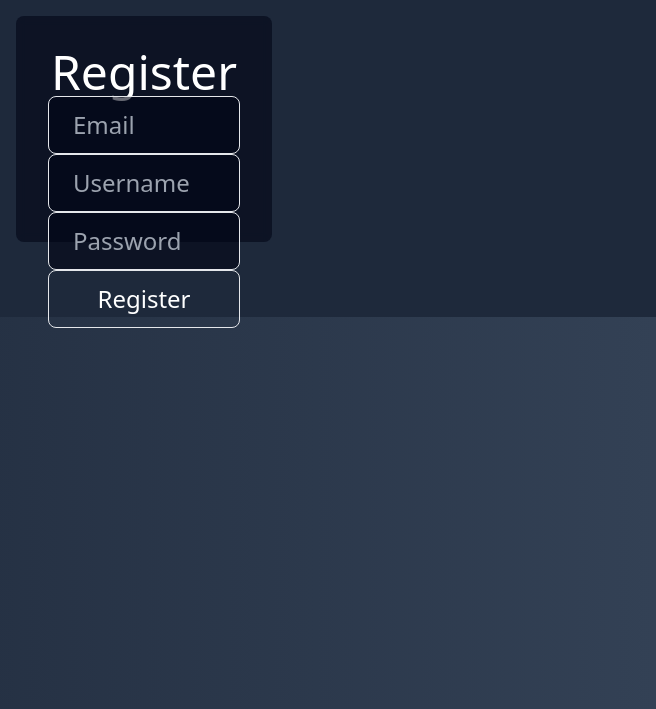
Scenario: Login › should render error message when received
Step 1. Type "robb@stark.winterfell" into the field with placeholder "Email" → point(144, 125), box [48,96,240,154]
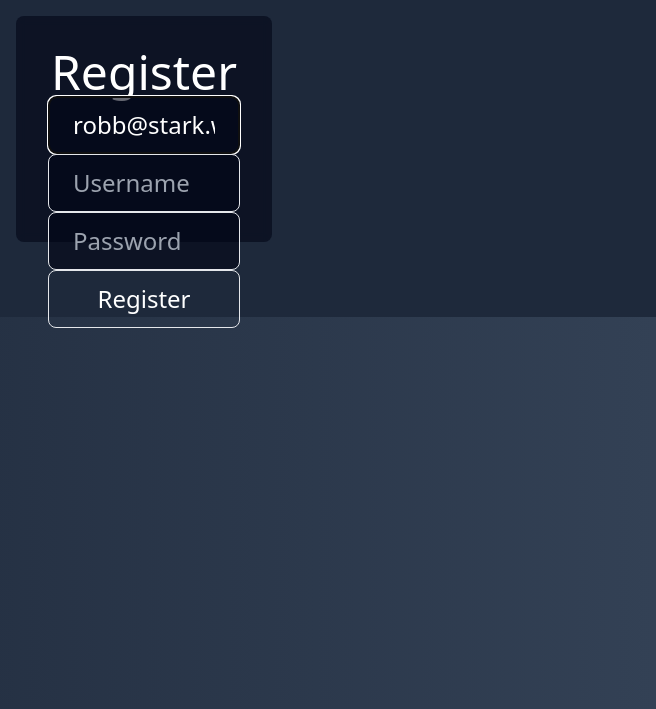
Step 2. Type "robb" into the field with placeholder "Username" → point(144, 183), box [48,154,240,212]
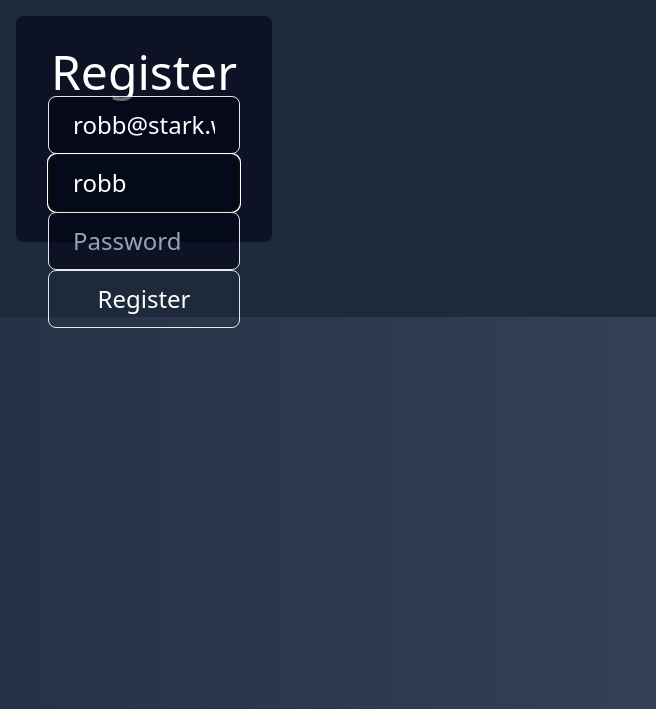
Step 3. Type "123" into the password field with placeholder "Password" → point(144, 241), box [48,212,240,270]
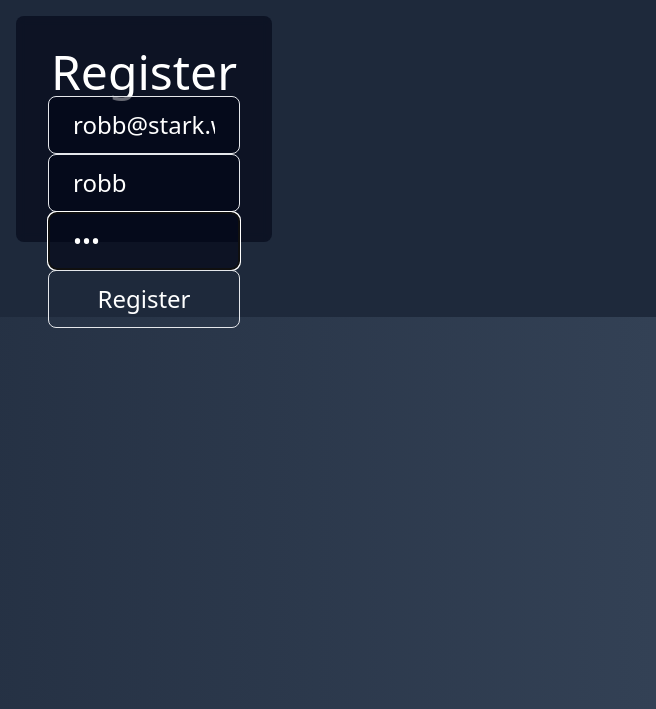
Step 4. Click the button "Register" → point(144, 299), box [48,270,240,328]
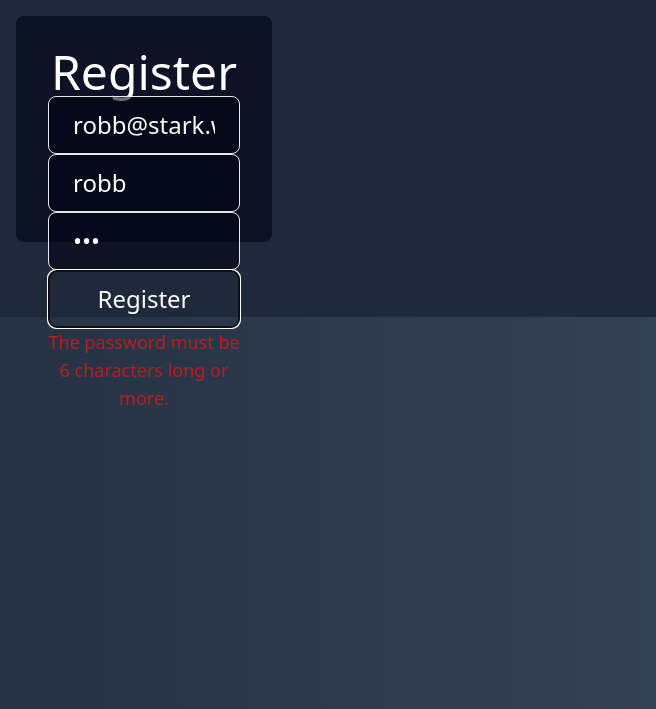
Expected: the heading "The password must be 6 characters long or more." is shown, [48,328,240,360]
